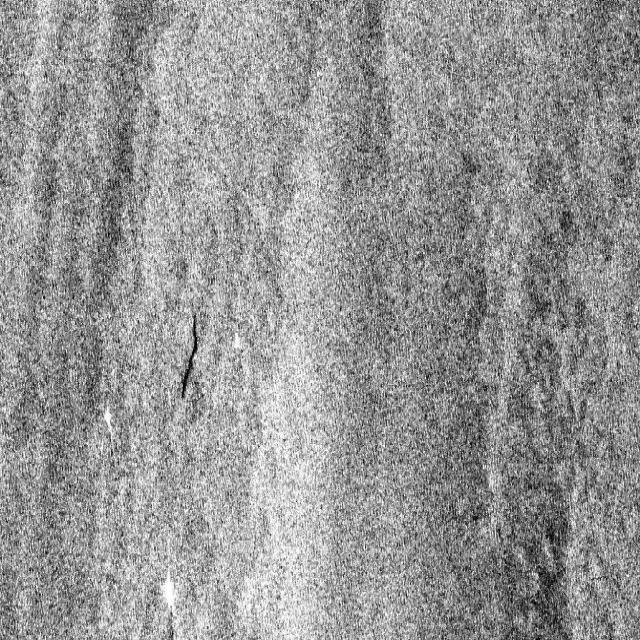oil-spill: (173, 312, 210, 408)
